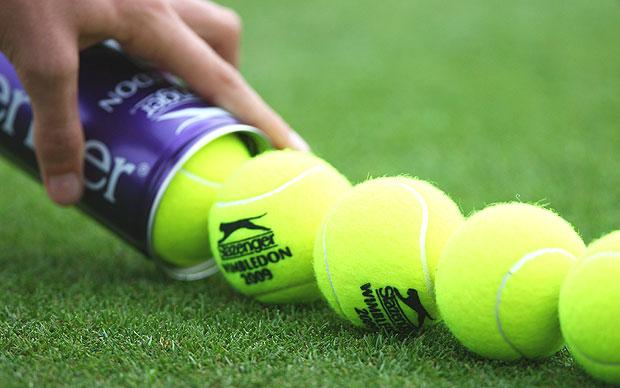tennis_ball: (312, 176, 470, 337), (435, 202, 587, 365), (205, 149, 343, 310), (152, 140, 260, 269), (559, 229, 619, 388)
